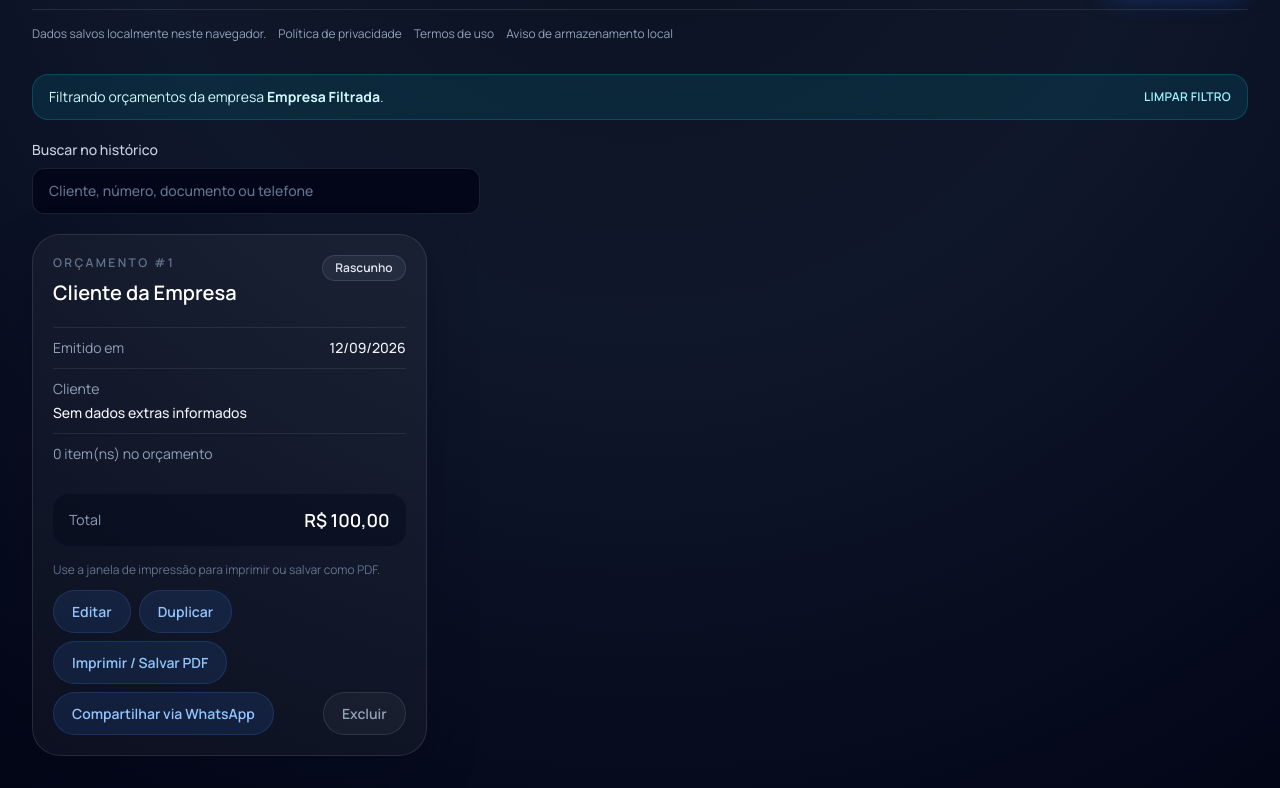
Test: HomePage › filters the dashboard by profileId from the URL, allows clearing it, and prints using that profile
The width and height of the screenshot is (1280, 788).
(page scrolled)
Expected: the text "Filtrando orçamentos da empresa Empresa Filtrada." is shown, x1=49 y1=87 x2=384 y2=107
Expected: the text "Empresa Filtrada" is shown, x1=267 y1=87 x2=380 y2=106
Click the button "Imprimir / Salvar PDF". click: point(140, 662)
box: x1=53 y1=641 x2=227 y2=684
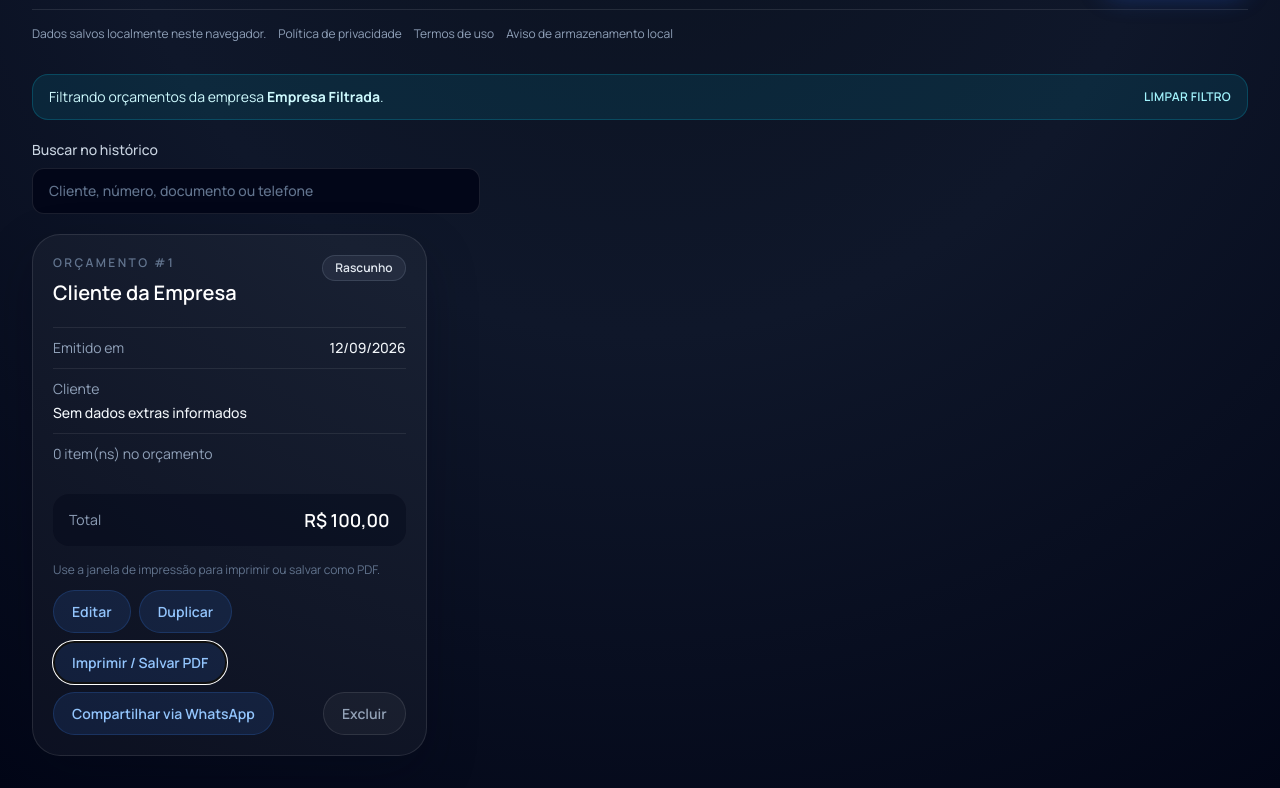
Click the button "Limpar filtro". click: point(1188, 97)
box: x1=1144 y1=89 x2=1231 y2=105
(page scrolled)
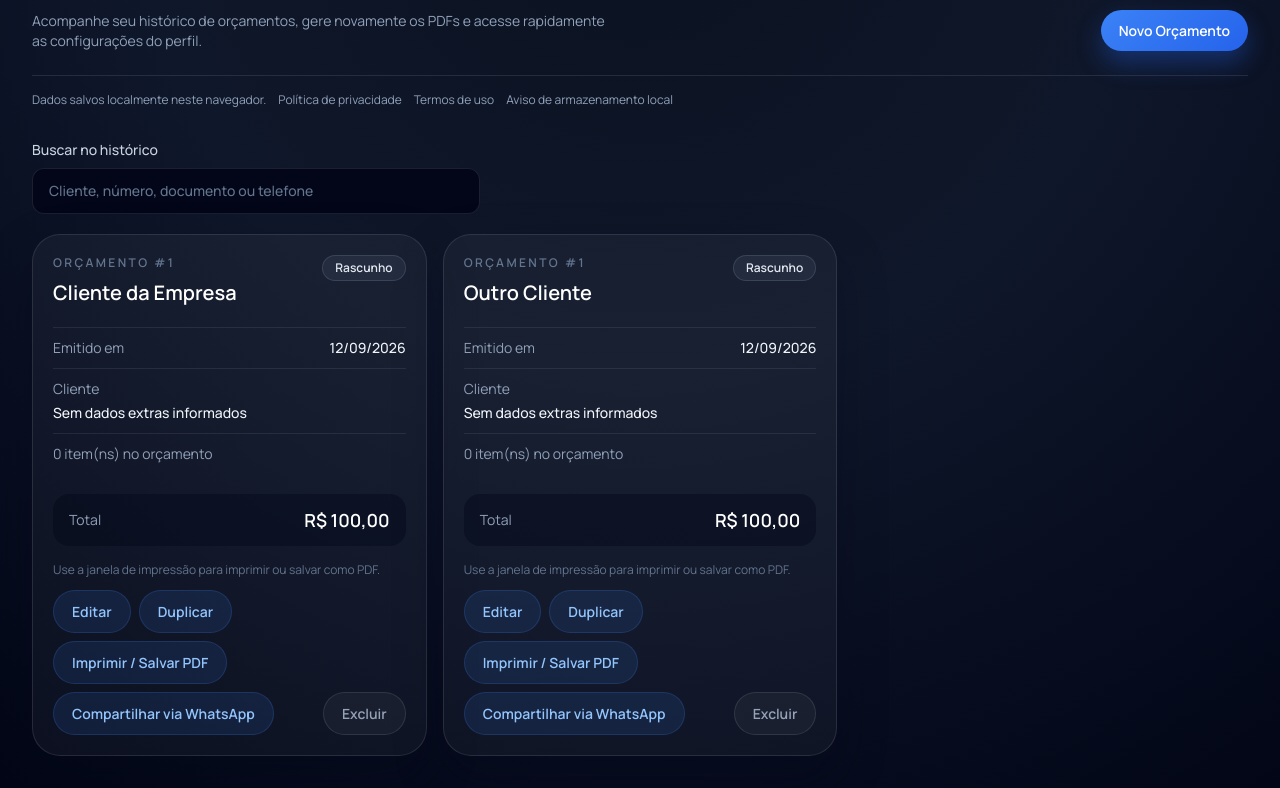
Now the text "Filtrando orçamentos da empresa" is gone
Now the heading "Outro Cliente" is shown, box x1=464 y1=279 x2=592 y2=307
